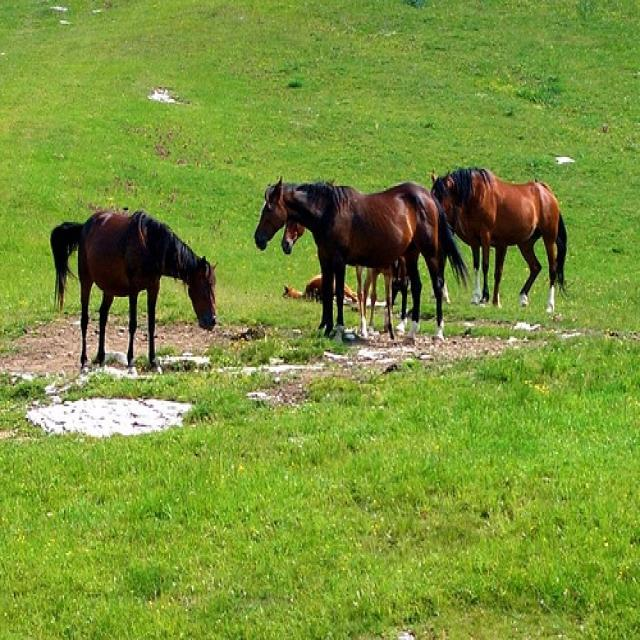horse: (252, 174, 472, 343), (48, 208, 218, 376), (430, 164, 571, 316)
